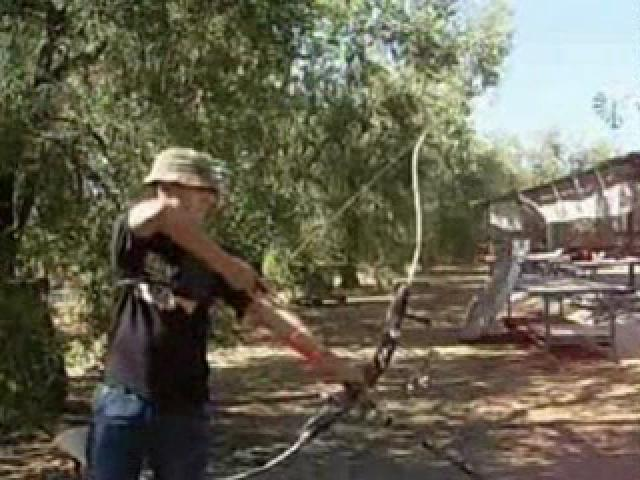I: (72, 137, 366, 480)
